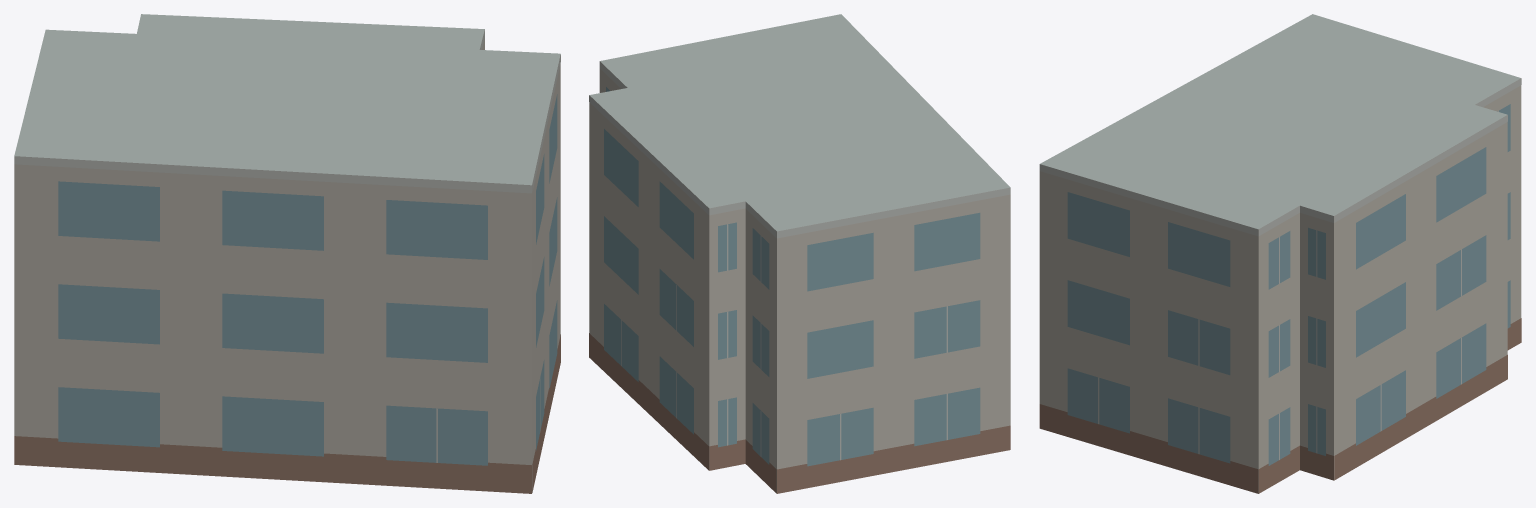
File: survey-upis-33004195.glb
3 renders of one model, left to right at view 1: azimuth 30°, elevation 25°; view 2: azimuth 150°, elevation 25°; view 3: azimuth 270°, elevation 25°, orthographic. The views are drawn at different scales.
Parts seen in each view (by area): view 1: survey-upis-33004195.tmp; view 2: survey-upis-33004195.tmp; view 3: survey-upis-33004195.tmp.
Boxes of the visible parts, x1,y1,x2,y2 form: survey-upis-33004195.tmp: [14, 14, 560, 493]; survey-upis-33004195.tmp: [589, 14, 1010, 493]; survey-upis-33004195.tmp: [1039, 14, 1521, 493].
Size of the model in its own units: 15.99 by 9.15 by 15.11.
